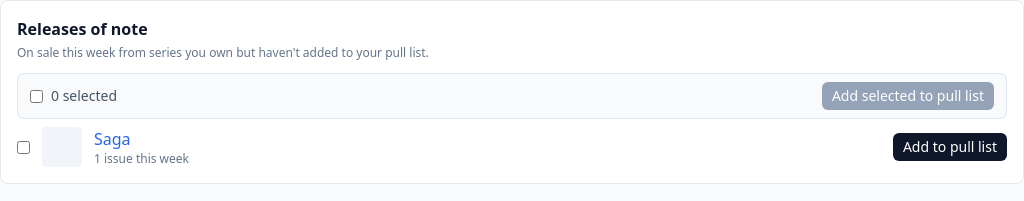
ReleasesOfNoteWidget › adds a release and badges it in place — the row is not removed
This screenshot has width=1024, height=201.
Step 1. Click the button "Add to pull list" → (950,147), box [893,133,1007,161]
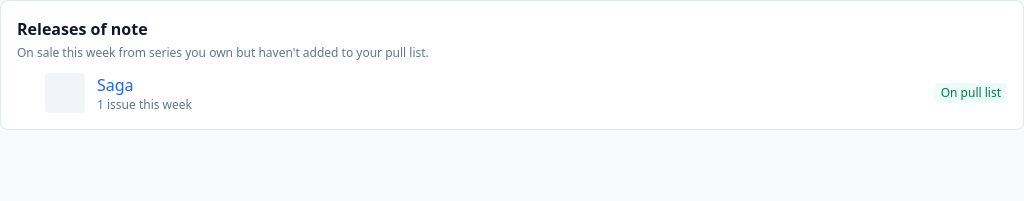
Expected: the link "Saga" is shown, [97,74,134,96]
Expected: the text "On pull list" is shown, [935,83,1007,103]
Expected: the button "Add to pull list" is gone
